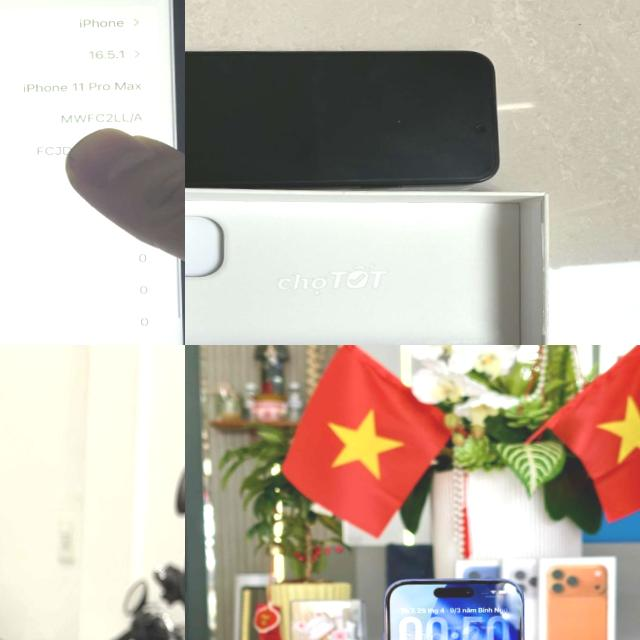gen_11: (0, 0, 185, 345)
gen_15: (185, 35, 525, 206)
gen_16: (372, 562, 537, 640)
